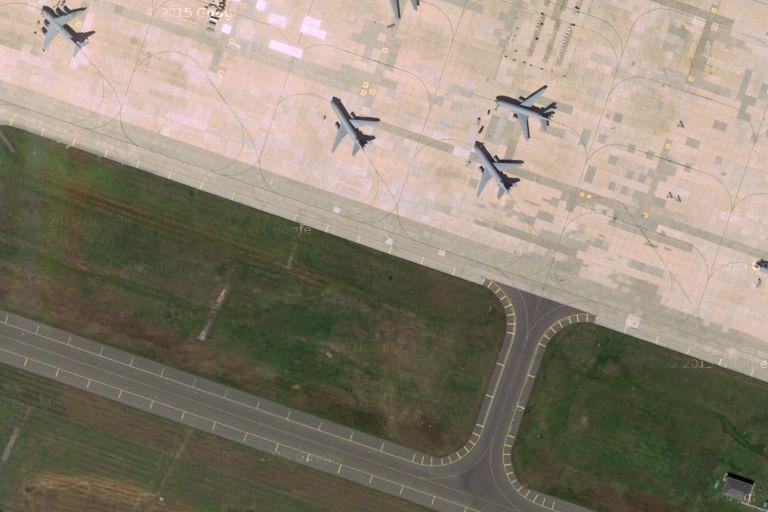C-17: (32, 2, 99, 57)
KC-10: (323, 94, 387, 157), (468, 140, 528, 199), (493, 82, 557, 135)
